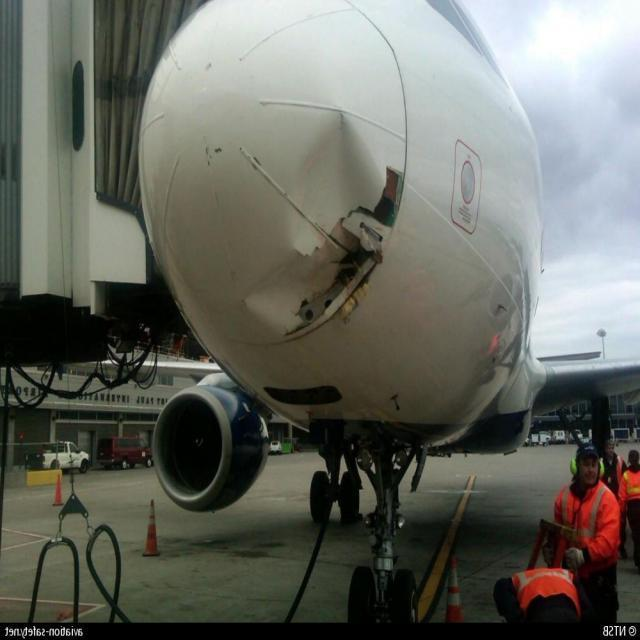dent: (294, 109, 379, 250), (245, 262, 327, 330)
